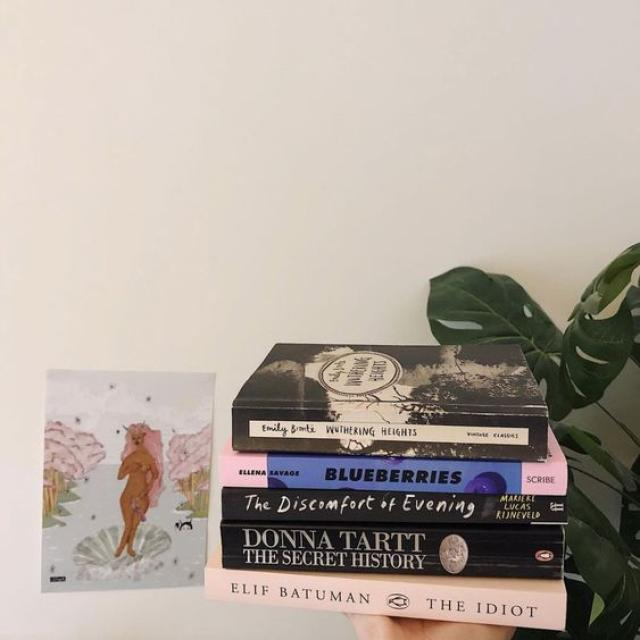book: (206, 549, 565, 629), (222, 524, 563, 579), (233, 408, 546, 456), (219, 453, 566, 496), (222, 489, 565, 523)
plants: (427, 243, 639, 639)
